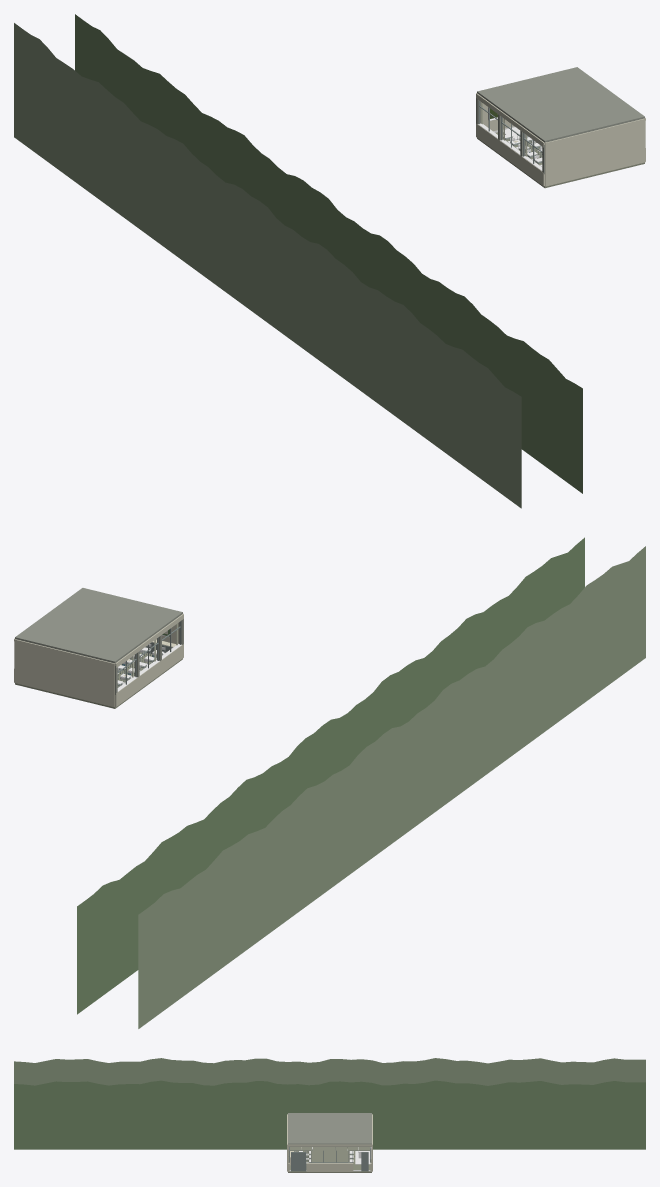
The model's file is class_v2_visual.glb.
3 renders of one model, top to bottom at view 1: azimuth 30°, elevation 25°; view 2: azimuth 150°, elevation 25°; view 3: azimuth 270°, elevation 25°, orthographic. The views are drawn at different scales.
Visible parts, largest first — view 1: VIS_class_CLASS | distant woodland 0, VIS_class_CLASS | distant woodland 1, VIS_class_SCH | warm offwhite ceiling, VIS_class_SCH | old ivory plaster; view 2: VIS_class_CLASS | distant woodland 0, VIS_class_CLASS | distant woodland 1, VIS_class_SCH | warm offwhite ceiling, VIS_class_SCH | old ivory plaster; view 3: VIS_class_CLASS | distant woodland 1, VIS_class_CLASS | distant woodland 0, VIS_class_SCH | warm offwhite ceiling, VIS_class_SCH | faded cream curtain, VIS_class_SCH | old ivory plaster.001, VIS_class_SCH | grey blue painted metal, VIS_class_SCH | olive linoleum, VIS_class_SCH | honey birch plywood.
Part boxes in pixels (left/top/right/bottom): VIS_class_CLASS | distant woodland 0: left=14, top=23, right=521, bottom=508; VIS_class_CLASS | distant woodland 1: left=75, top=14, right=582, bottom=493; VIS_class_SCH | warm offwhite ceiling: left=476, top=67, right=644, bottom=174; VIS_class_SCH | old ivory plaster: left=476, top=93, right=645, bottom=186; VIS_class_CLASS | distant woodland 0: left=138, top=546, right=645, bottom=1028; VIS_class_CLASS | distant woodland 1: left=77, top=537, right=584, bottom=1014; VIS_class_SCH | warm offwhite ceiling: left=15, top=588, right=183, bottom=694; VIS_class_SCH | old ivory plaster: left=14, top=613, right=183, bottom=707; VIS_class_CLASS | distant woodland 1: left=14, top=1080, right=645, bottom=1149; VIS_class_CLASS | distant woodland 0: left=14, top=1058, right=645, bottom=1085; VIS_class_SCH | warm offwhite ceiling: left=288, top=1113, right=371, bottom=1146; VIS_class_SCH | faded cream curtain: left=290, top=1147, right=369, bottom=1162; VIS_class_SCH | old ivory plaster.001: left=288, top=1144, right=371, bottom=1171; VIS_class_SCH | grey blue painted metal: left=289, top=1147, right=370, bottom=1171; VIS_class_SCH | olive linoleum: left=288, top=1147, right=371, bottom=1172; VIS_class_SCH | honey birch plywood: left=289, top=1147, right=371, bottom=1164.
Size of the model in its own units: 28.18 by 11.54 by 72.
